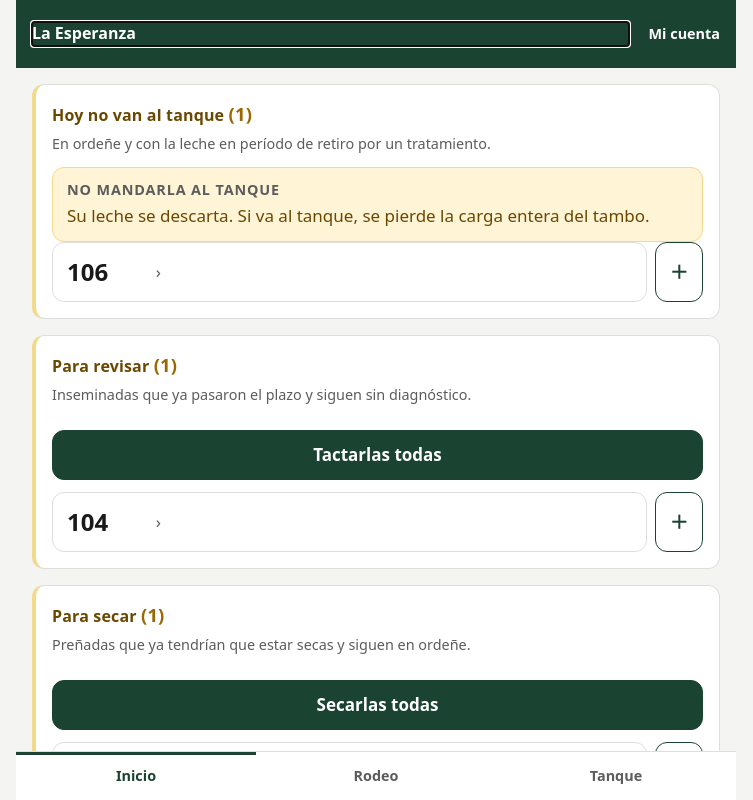
Test case: quién soy › se llega desde el tablero
Expected: the heading "La Esperanza" is shown, [32,22,136,44]
Click the link "Mi cuenta" at [684, 33], box [648,24,720,43]
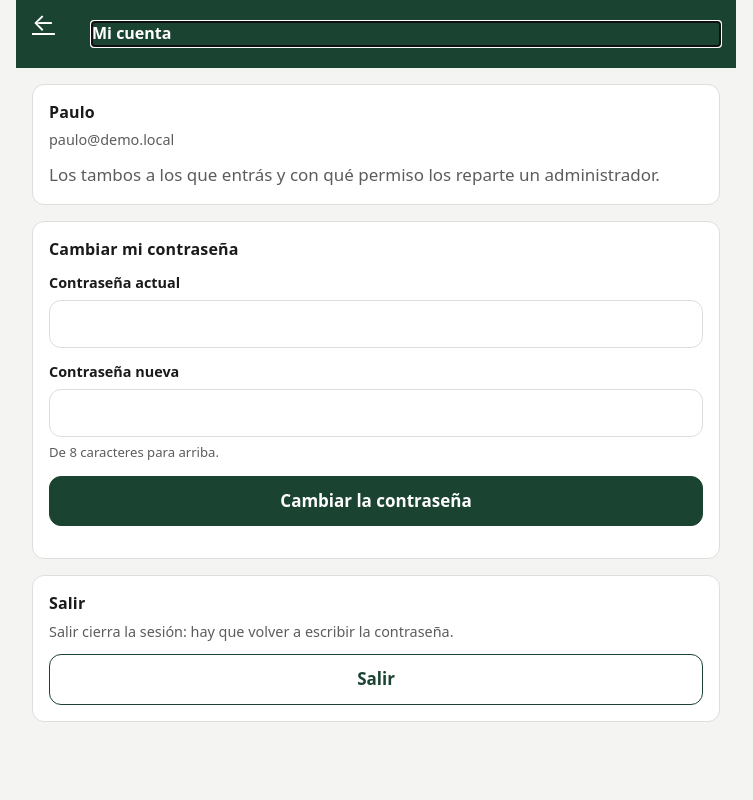
Expected: the heading "Mi cuenta" is shown, [92,22,172,44]
